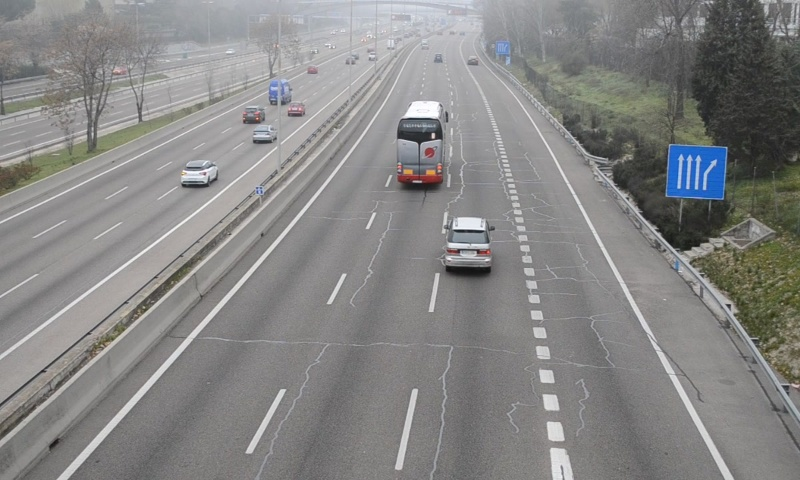bus: (396, 100, 445, 186)
car: (443, 218, 491, 272)
